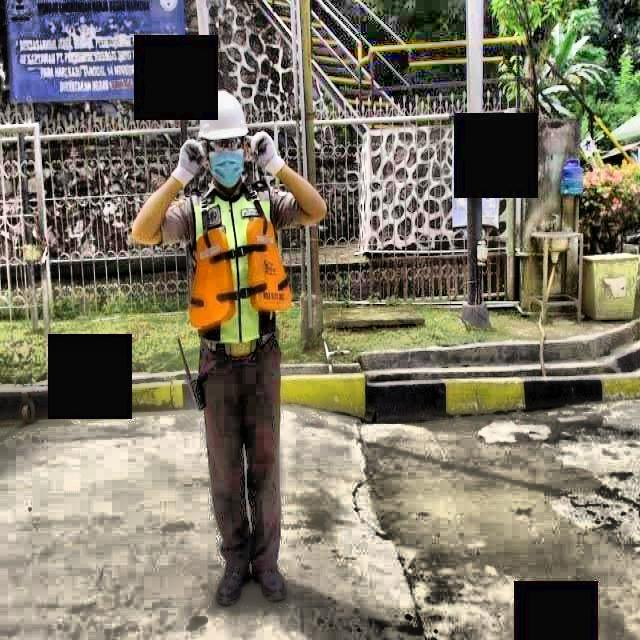safety_helmet: (197, 86, 248, 143)
safety_jacket: (188, 189, 293, 342)
